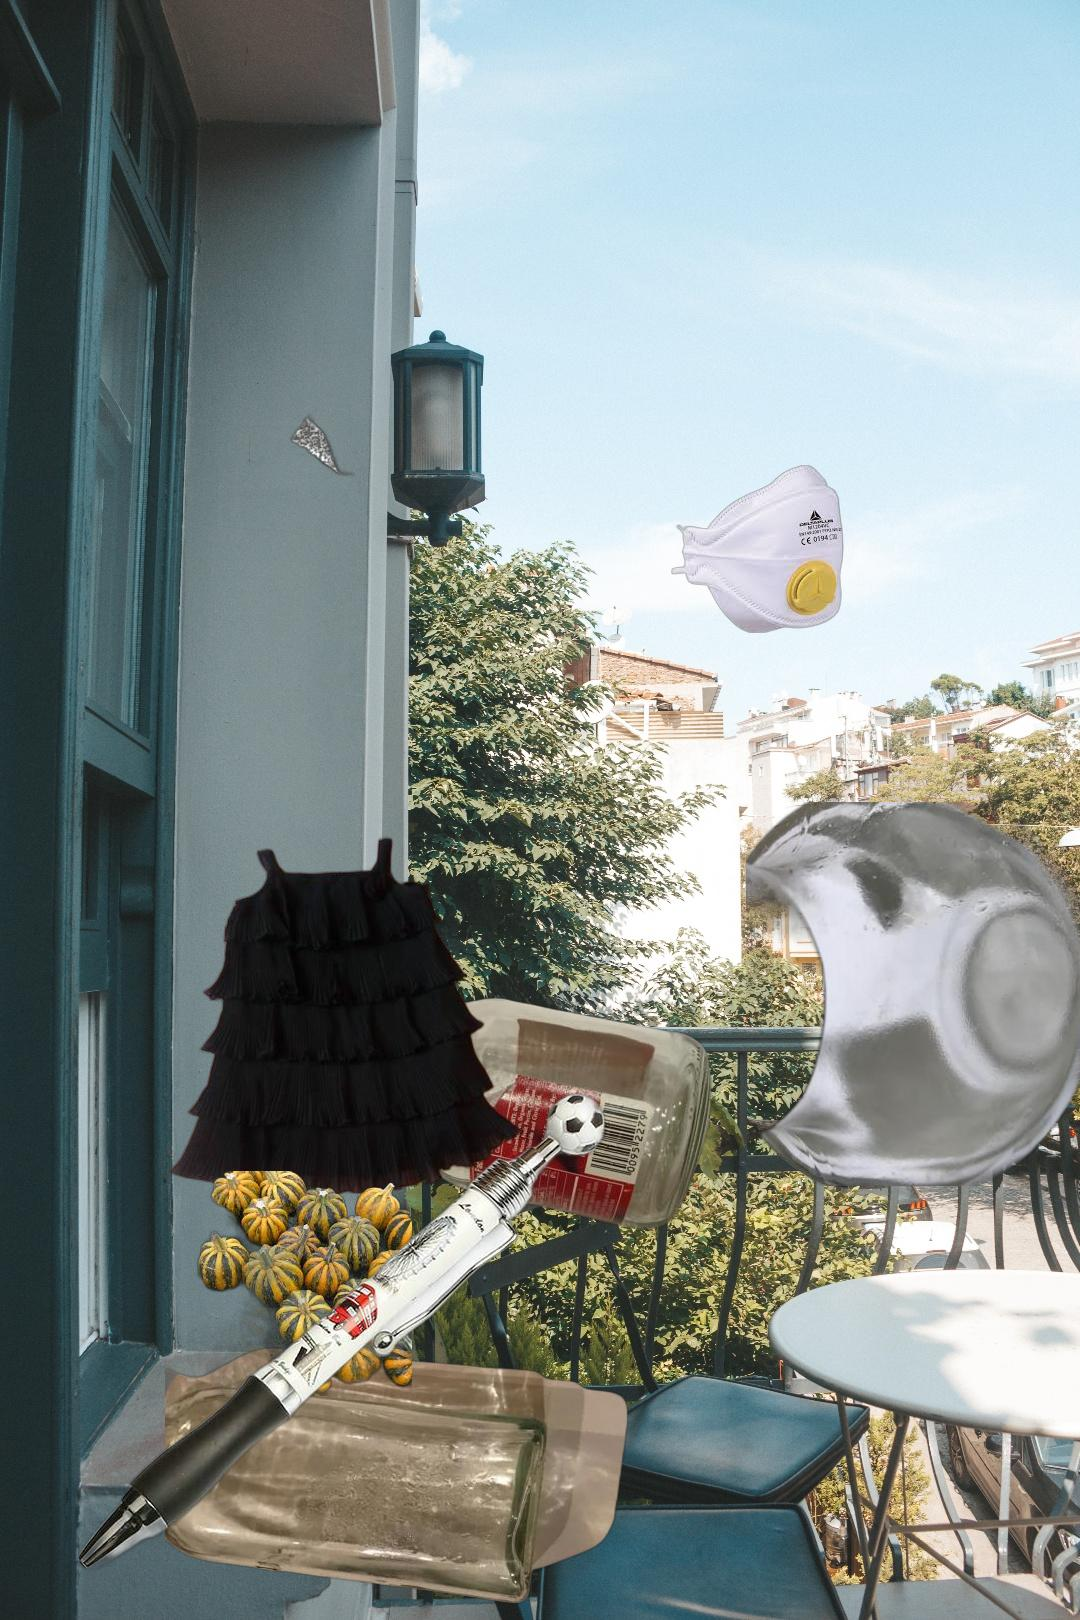biological: (187, 1170, 412, 1396)
clothes: (168, 833, 526, 1199)
glass: (746, 802, 1080, 1186), (165, 1345, 633, 1607), (356, 991, 716, 1233)
paper: (287, 405, 357, 479)
penholder: (74, 1088, 610, 1574)
trash: (671, 465, 846, 633)
